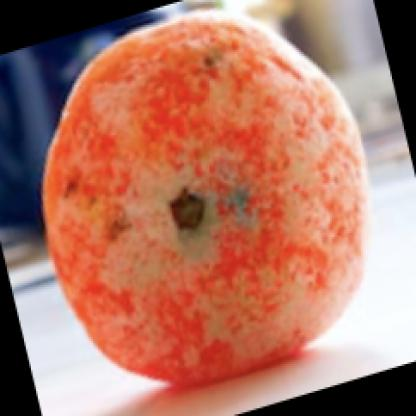rotten_orange: (34, 15, 369, 386)
